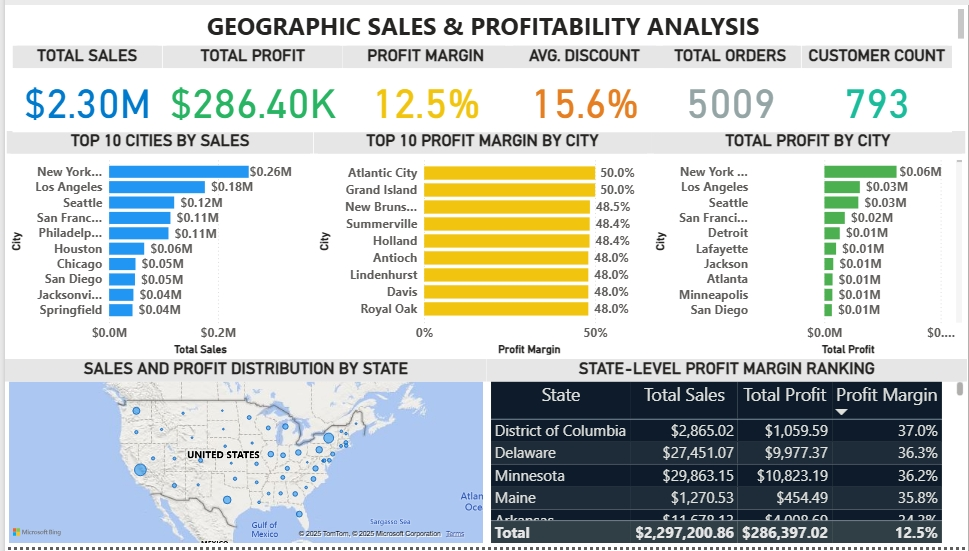

The page's visual inventory and layout, read from the dashboard file:
{"tool":"powerbi","page":{"name":"Geographic Sales & Profitability Analysis","canvas":[1280,720],"ordinal":6},"visuals":[{"type":"map","title":"SALES AND PROFIT DISTRIBUTION BY STATE","fields":{"Category":["Orders.State"],"Size":["Orders.Total Sales"]},"box":[0,470.6,640.6,249.5],"z":0},{"type":"card","title":"TOTAL SALES","fields":{"Values":["Orders.Total Sales"]},"box":[9.4,52.9,198.4,115.3],"z":1000,"group":"g1"},{"type":"clusteredBarChart","title":"TOP 10 CITIES BY SALES","fields":{"Y":["Orders.Total Sales"],"Category":["Orders.City"]},"box":[1.9,168.2,408.2,302.4],"z":1000},{"type":"card","title":"TOTAL PROFIT","fields":{"Values":["Orders.Total Profit"]},"box":[207.8,52.9,240,115.3],"z":2000,"group":"g1"},{"type":"tableEx","title":"STATE-LEVEL PROFIT MARGIN RANKING","fields":{"Values":["Orders.State","Orders.Total Sales","Orders.Total Profit","Orders.Profit Margin"]},"box":[640.6,470.6,638.7,249.5],"z":2000},{"type":"textbox","box":[0,0,1279.4,51],"z":3000},{"type":"card","title":"PROFIT MARGIN","fields":{"Values":["Orders.Profit Margin"]},"box":[447.8,52.9,221.1,115.3],"z":3000,"group":"g1"},{"type":"card","title":"AVG. DISCOUNT","fields":{"Values":["Orders.Average Discount"]},"box":[668.9,52.9,200.3,115.3],"z":4000,"group":"g1"},{"type":"clusteredBarChart","title":"TOTAL PROFIT BY CITY","fields":{"Category":["Orders.City"],"Y":["Orders.Total Profit"]},"box":[858,168.2,419.5,302.4],"z":4000},{"type":"clusteredBarChart","title":"TOP 10 PROFIT MARGIN BY CITY","fields":{"Y":["Orders.Profit Margin"],"Category":["Orders.City"]},"box":[410.1,168.2,447.9,302.4],"z":5000},{"type":"card","title":"TOTAL ORDERS","fields":{"Values":["Orders.Total Orders"]},"box":[869.2,52.9,189,115.3],"z":5500,"group":"g1"},{"type":"card","title":"CUSTOMER COUNT","fields":{"Values":["Orders.Customer Count"]},"box":[1058.2,52.9,200.3,115.3],"z":5750,"group":"g1"},{"type":"group","id":"g1","title":"Group 1","box":[9.4,52.9,1249.1,115.3],"z":6000}]}

Visuals, with their boxes in screenshot pixels (x1, y1, x2, y2), scaled from the page's 1280x720 canvas onto the 969x551 screenshot:
"SALES AND PROFIT DISTRIBUTION BY STATE" map: detection(0, 360, 485, 550)
"TOTAL SALES" card: detection(7, 40, 157, 129)
"TOP 10 CITIES BY SALES" clusteredBarChart: detection(1, 129, 310, 360)
"TOTAL PROFIT" card: detection(157, 40, 339, 129)
"STATE-LEVEL PROFIT MARGIN RANKING" tableEx: detection(485, 360, 968, 550)
textbox: detection(0, 0, 968, 39)
"PROFIT MARGIN" card: detection(339, 40, 506, 129)
"AVG. DISCOUNT" card: detection(506, 40, 658, 129)
"TOTAL PROFIT BY CITY" clusteredBarChart: detection(650, 129, 967, 360)
"TOP 10 PROFIT MARGIN BY CITY" clusteredBarChart: detection(310, 129, 650, 360)
"TOTAL ORDERS" card: detection(658, 40, 801, 129)
"CUSTOMER COUNT" card: detection(801, 40, 953, 129)
"Group 1" group: detection(7, 40, 953, 129)
